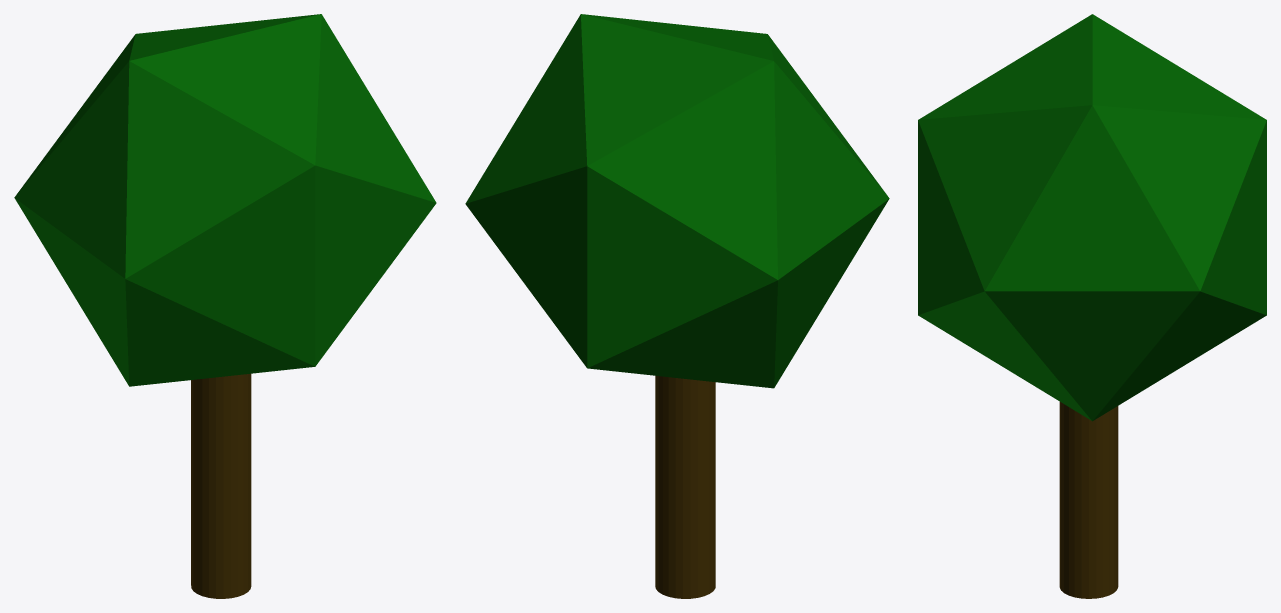
The model's file is derevo.fbx.
The picture shows the model from 3 angles, left to right: view 1: azimuth 30°, elevation 25°; view 2: azimuth 150°, elevation 25°; view 3: azimuth 270°, elevation 25°; orthographic projection. The views are drawn at different scales.
Visible parts, largest first — view 1: Platonic, Cylinder_4; view 2: Platonic, Cylinder_4; view 3: Platonic, Cylinder_4.
Part boxes in pixels (left/top/right/bottom): Platonic: left=14, top=14, right=436, bottom=386; Cylinder_4: left=191, top=373, right=251, bottom=598; Platonic: left=465, top=14, right=889, bottom=388; Cylinder_4: left=655, top=375, right=715, bottom=598; Platonic: left=918, top=14, right=1266, bottom=421; Cylinder_4: left=1059, top=402, right=1118, bottom=598.
Bounding box in the file's own units: 249 × 417 × 249.
